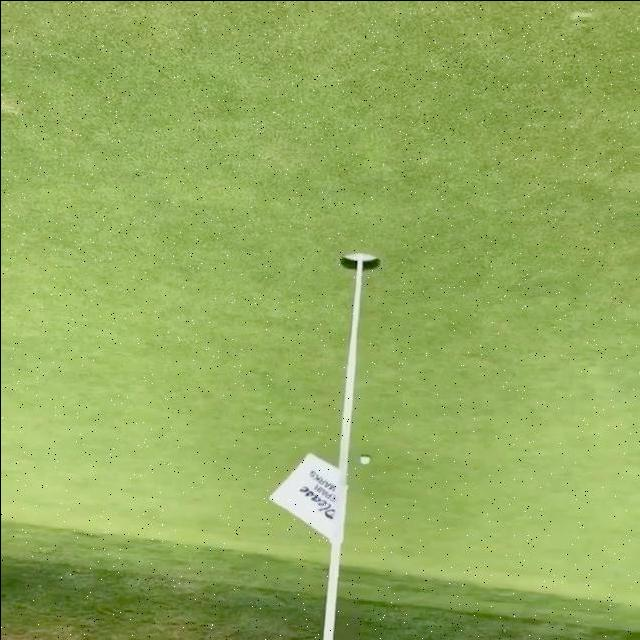golf ball: (359, 453, 371, 464)
